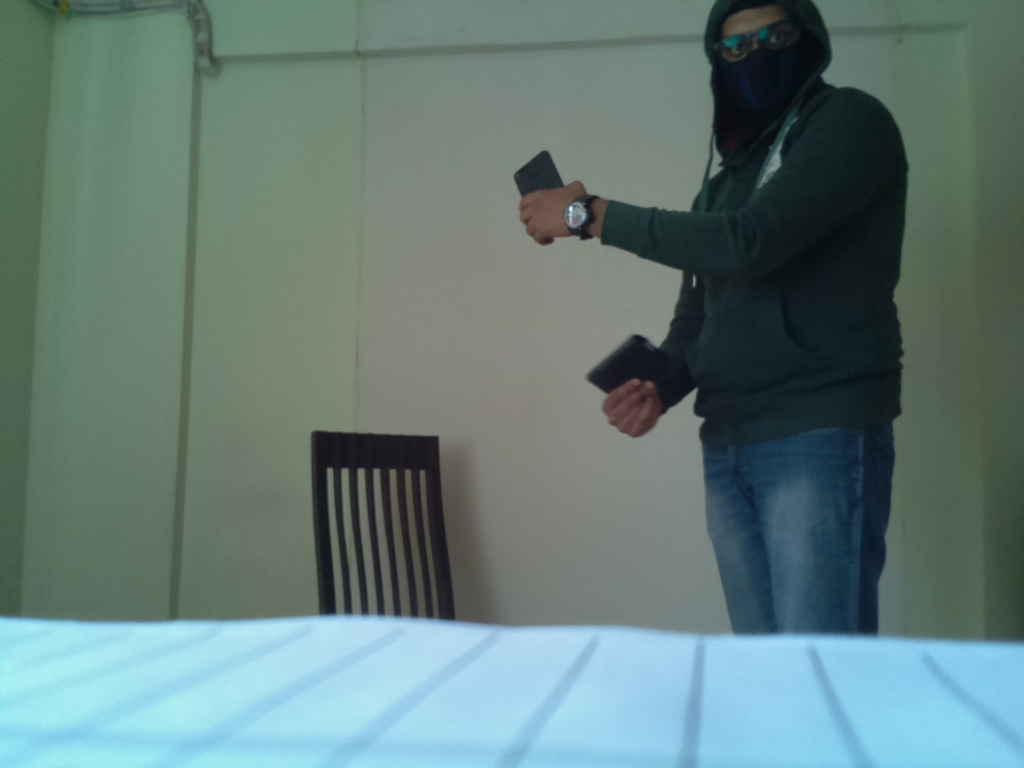none2: (503, 150, 565, 199), (561, 196, 598, 242)
